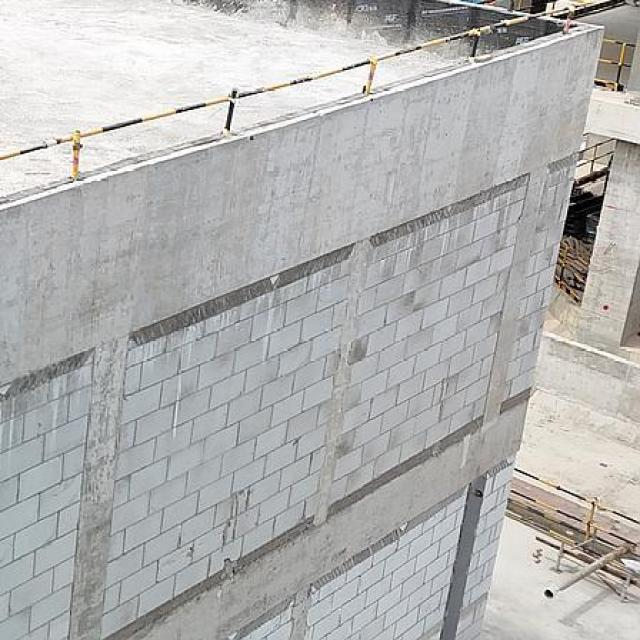edge_guardrail: (0, 1, 577, 180), (511, 468, 640, 546), (599, 38, 637, 83), (576, 138, 616, 172), (557, 245, 586, 288)
